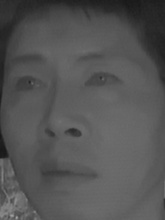eye: (83, 71, 123, 92), (13, 73, 48, 96)
mouth: (34, 157, 98, 191)
